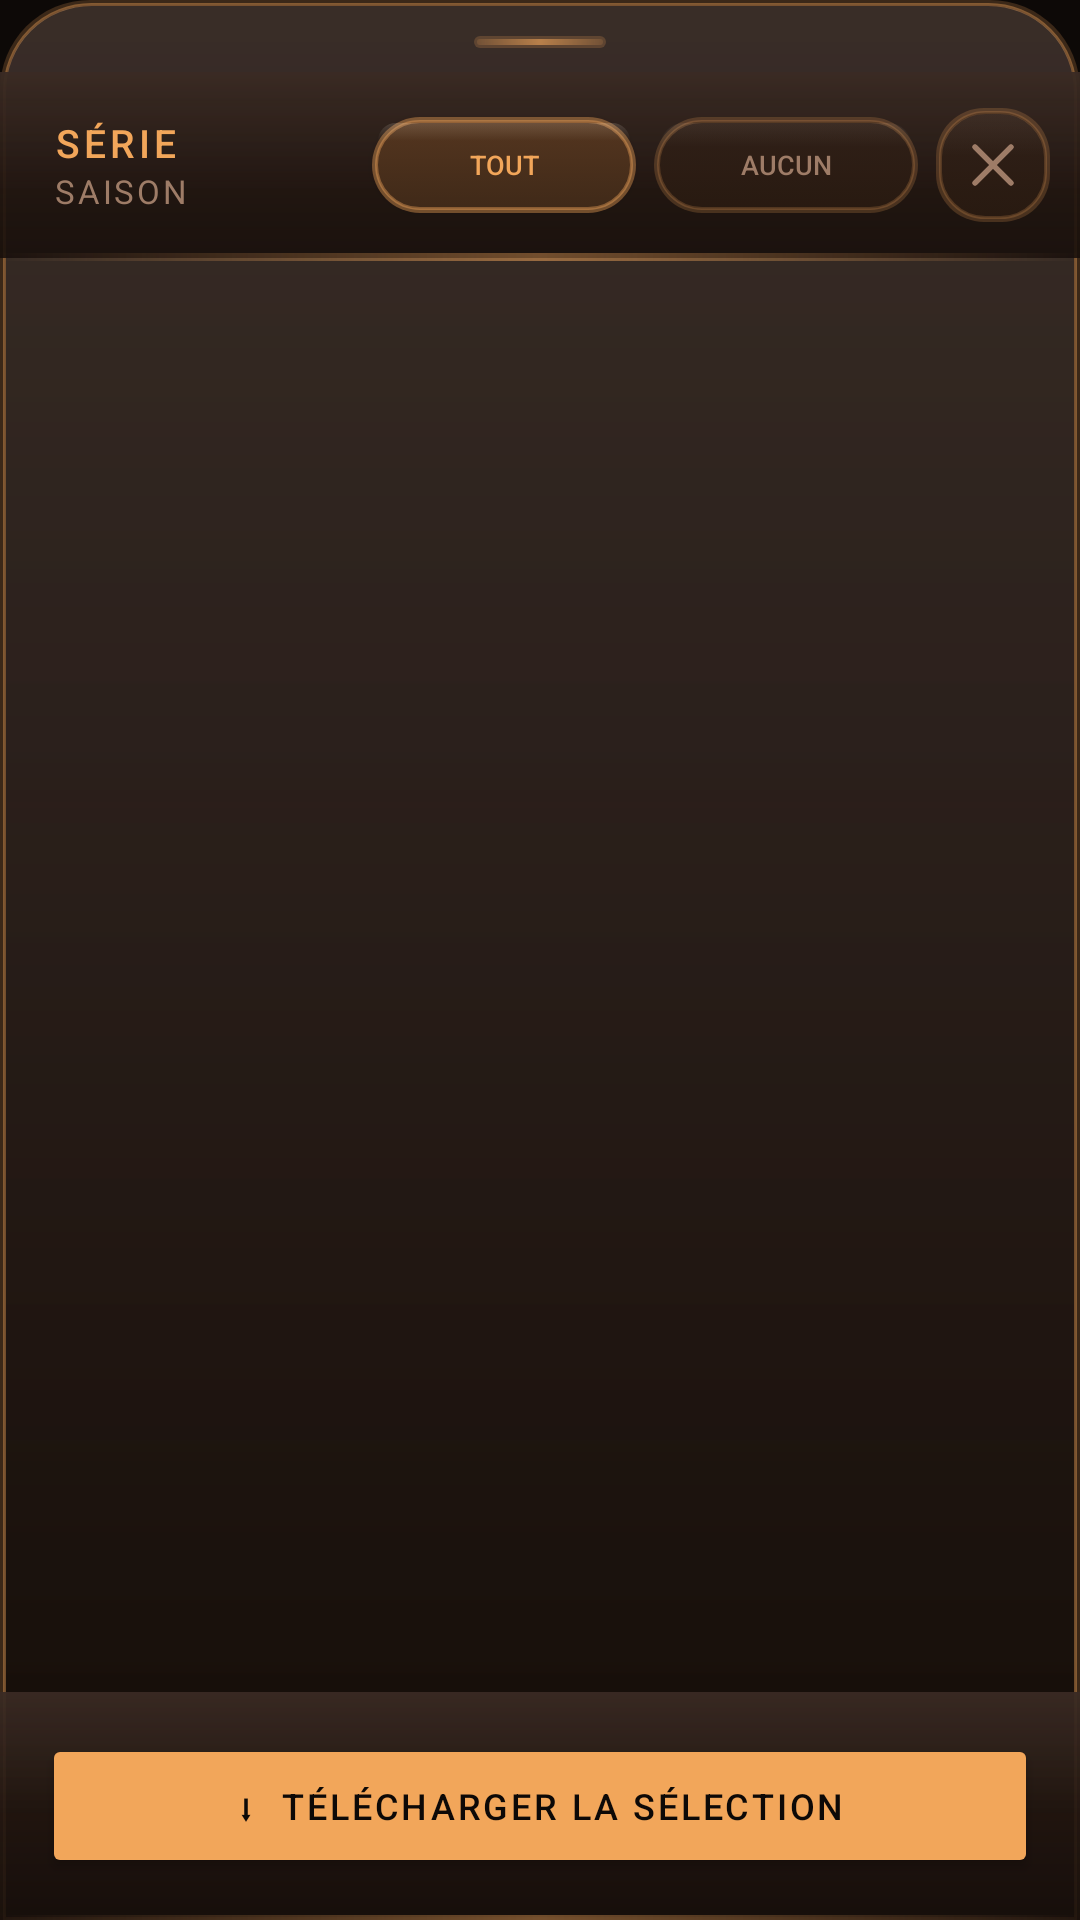

Named icons in this screenshot (1080px×1920px) and their centers, [x,y]:
Fermer: [993,165]
